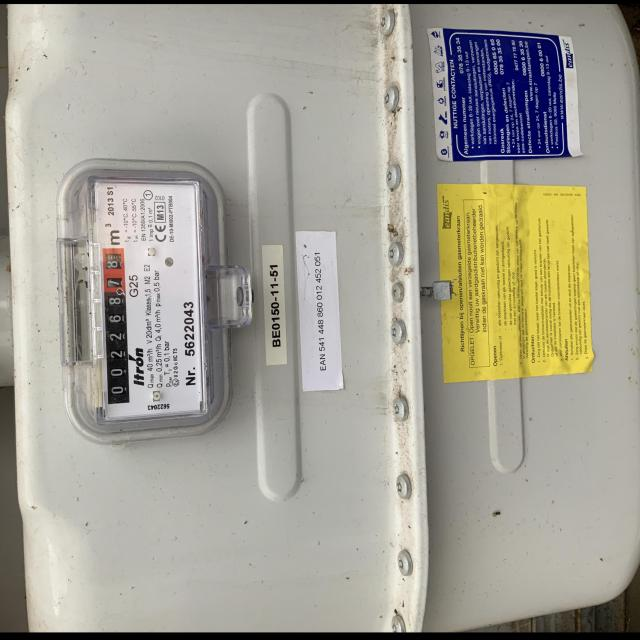gaz_meter: (88, 174, 208, 425)
indication: (103, 248, 131, 402)
